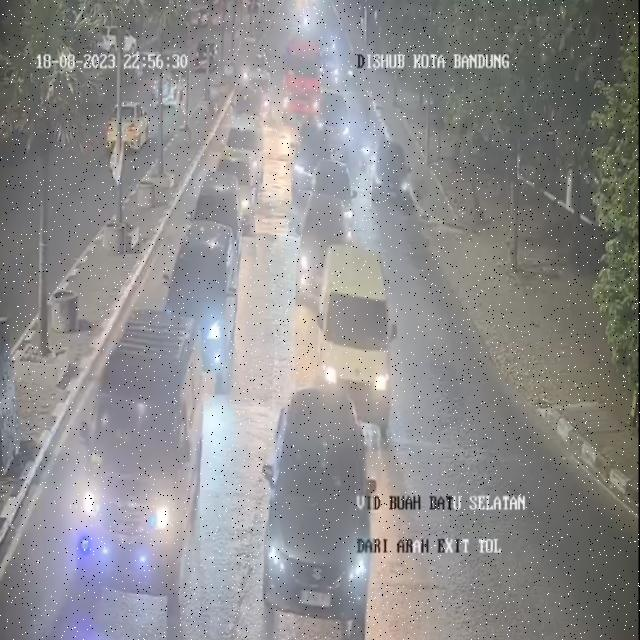cars: (70, 298, 200, 589), (264, 380, 375, 634), (320, 243, 397, 431), (163, 218, 233, 388), (302, 194, 352, 320), (188, 169, 242, 278), (314, 156, 358, 236), (216, 146, 257, 223), (291, 113, 329, 195), (372, 137, 410, 211), (232, 109, 270, 172), (321, 89, 356, 151)
motorcycle: (359, 130, 374, 175)
truck: (283, 34, 320, 126)
